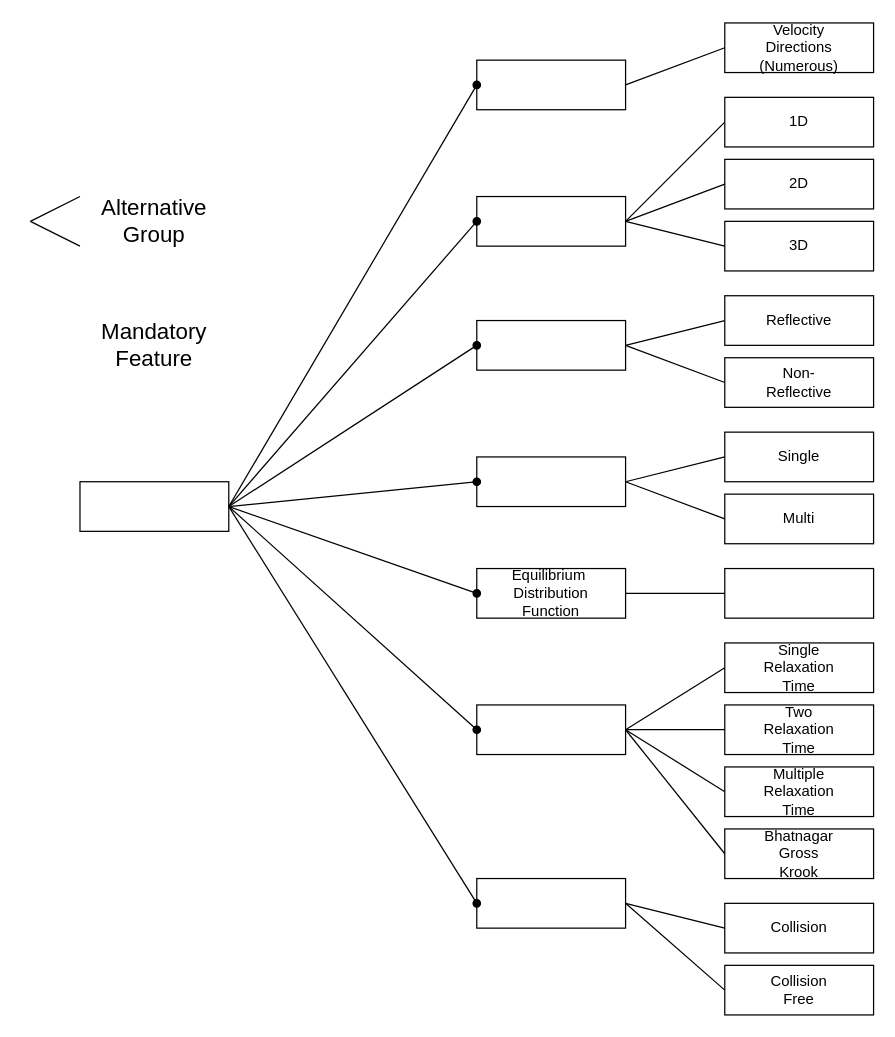
Some shapes in this 895 by 1037 pixel diagram are drawn without their labels. Here are the shapes that lost their labels. From the top down, the centre of each, then its label:
At [551,84]: "Discretization".
At [551,220]: "Dimensionality".
At [551,344]: "Boundary Conditions".
At [551,481]: "Phase".
At [154,505]: "Model".
At [799,592]: "Coefficient Weights (Numerous)".
At [551,729]: "Collision Operator".
At [551,902]: "Transport Equation".
